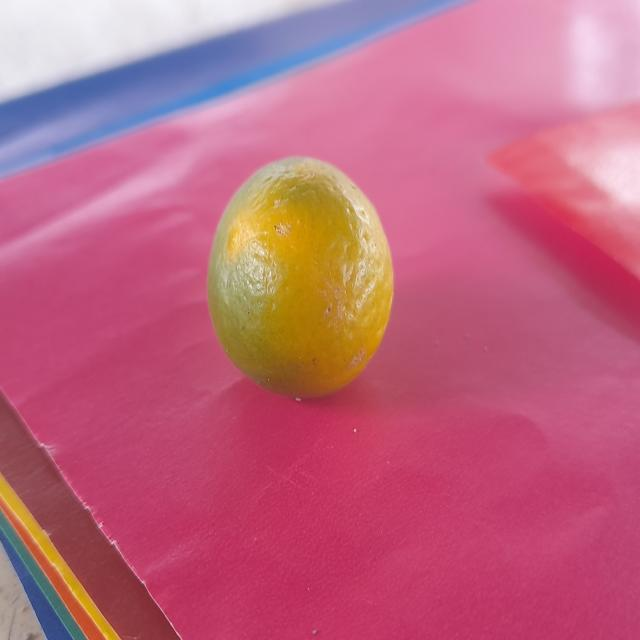greening: (206, 154, 398, 403)
